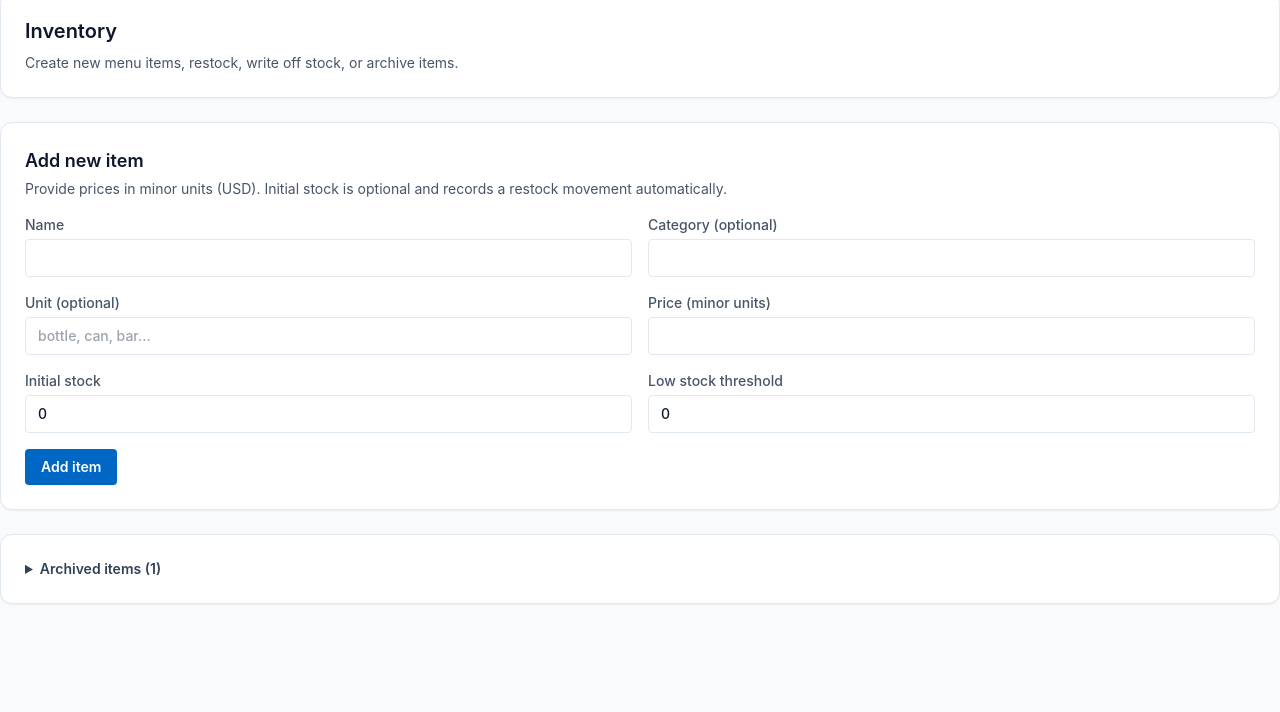
Test: InventoryManager archive/reactivate › reactivates an archived item from the archived list
Expected: the text "Archived items (1)" is shown, x1=0 y1=534 x2=1279 y2=604
What coordinates should you click on to do the following:
click the heading "Archived items (1)"
I would click on:
 (100, 568)
Its box is x1=40 y1=560 x2=161 y2=577.
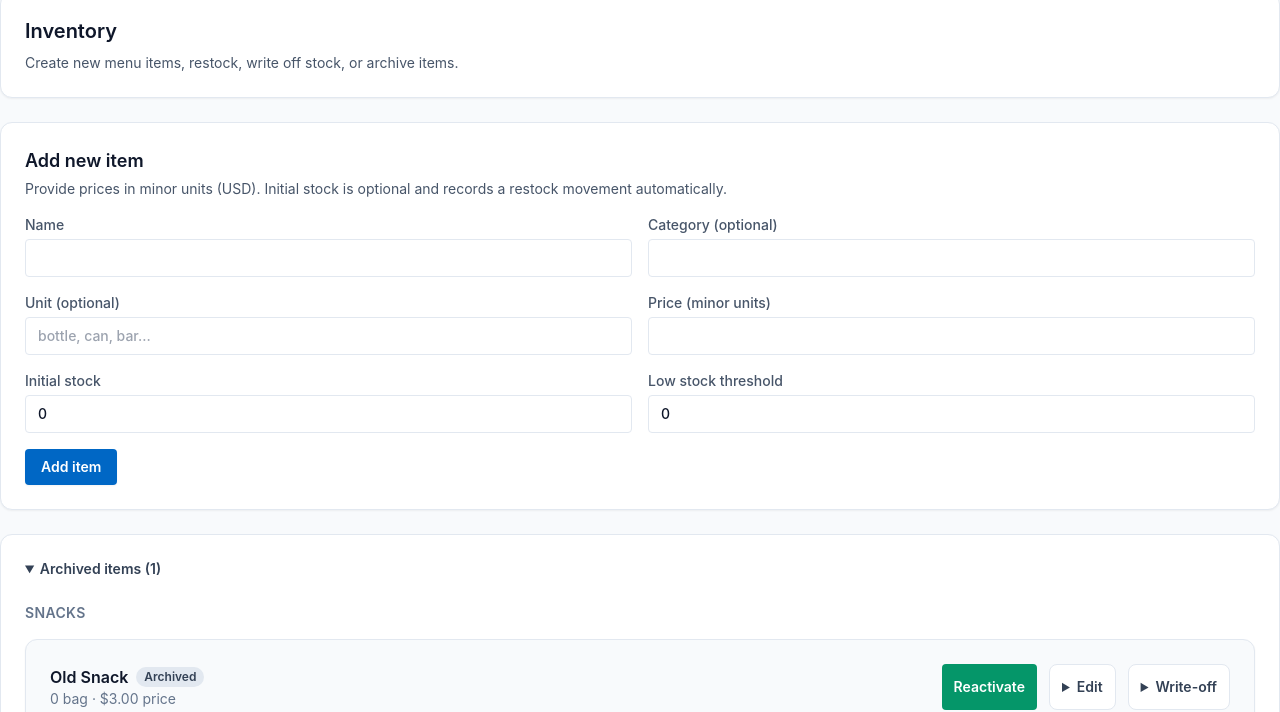
What coordinates should you click on to do the following:
click the button "Reactivate"
I would click on:
 (989, 687)
Its box is x1=942 y1=664 x2=1037 y2=710.
(page scrolled)
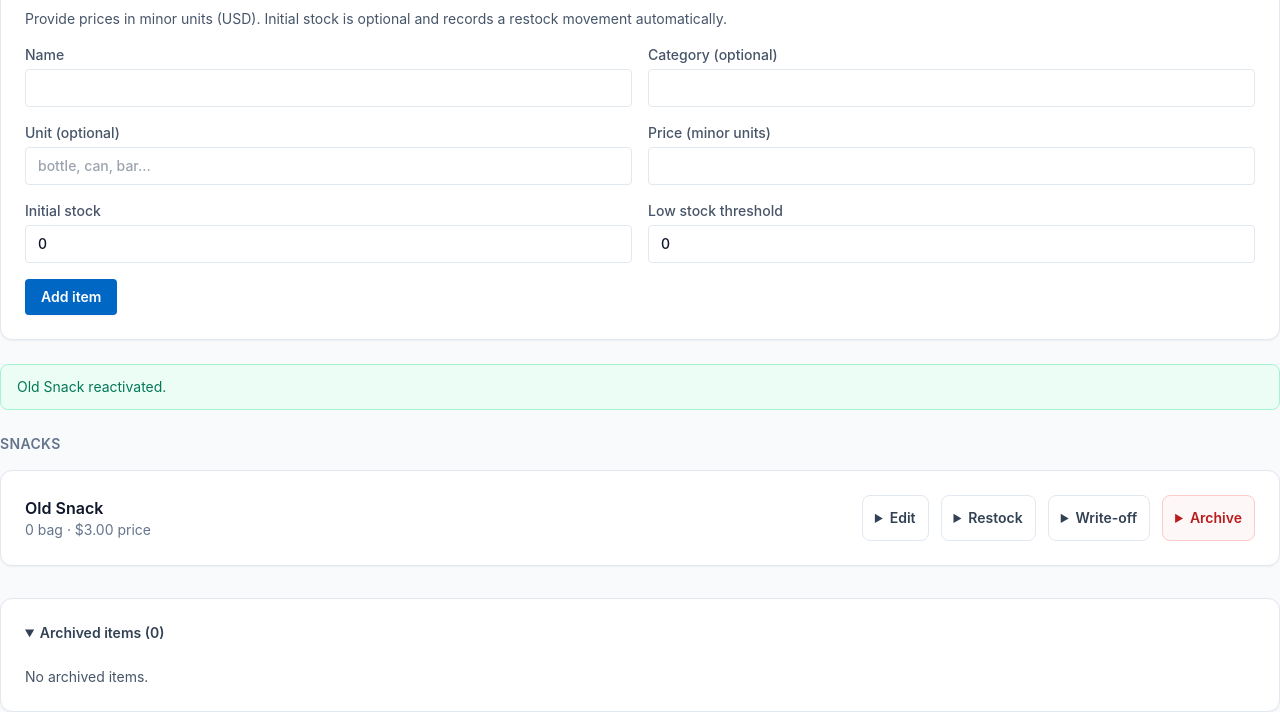
Result: the heading "Archived items (0)" is shown at x1=40 y1=624 x2=164 y2=641
